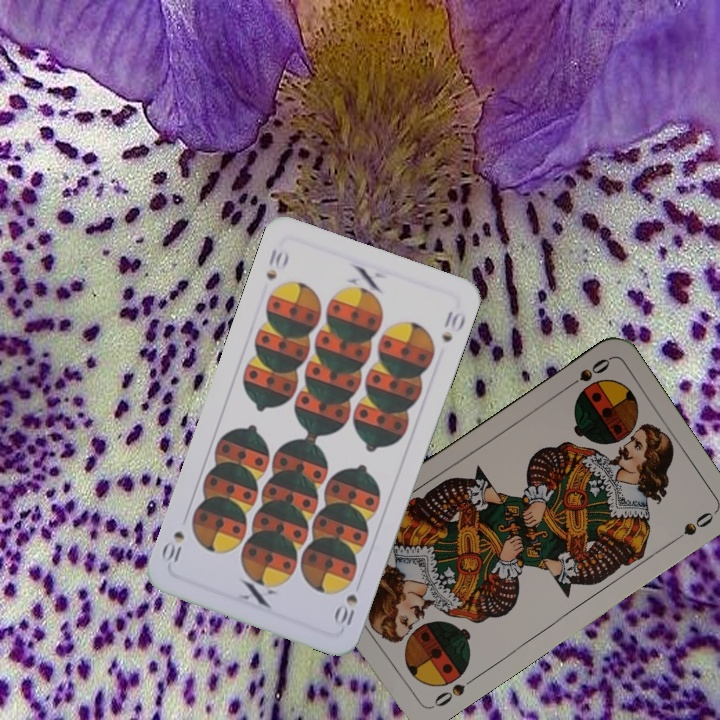S10: (331, 589, 361, 628), (262, 244, 292, 282)
SO: (560, 354, 613, 393), (425, 673, 478, 712)
